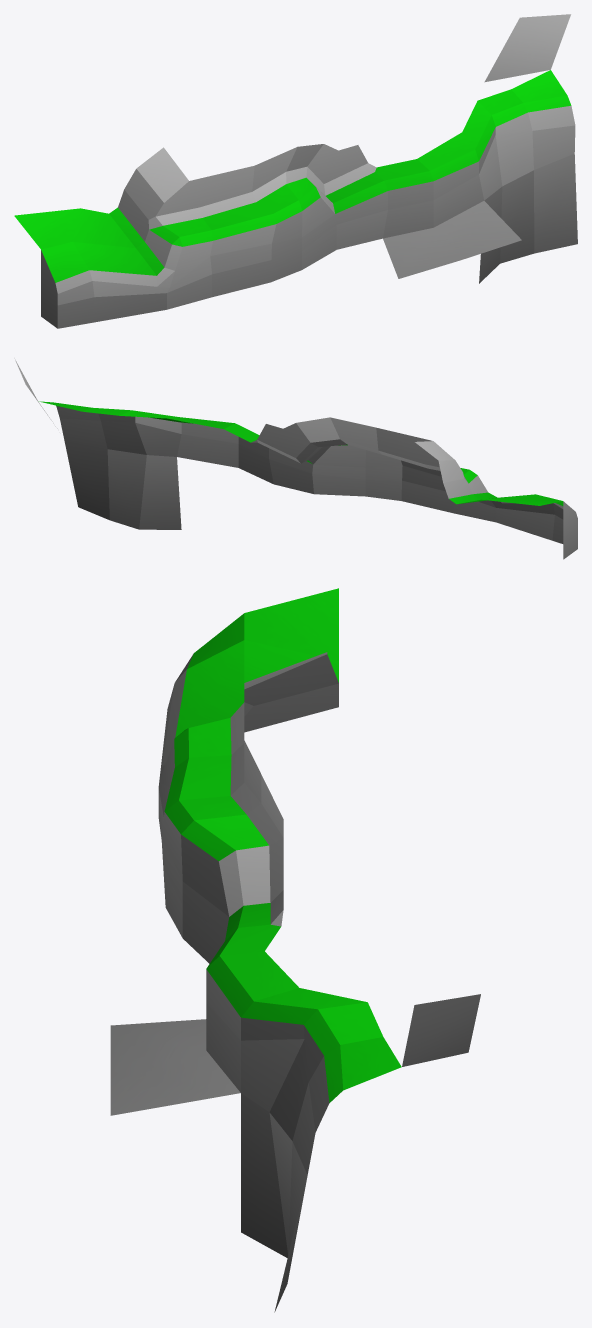
File: Forest Background 1.fbx
3 renders of one model, top to bottom at view 1: azimuth 30°, elevation 25°; view 2: azimuth 150°, elevation 25°; view 3: azimuth 270°, elevation 25°, orthographic. The views are drawn at different scales.
Visible parts, largest first — view 1: polySurface120; view 2: polySurface120; view 3: polySurface120.
Boxes of the visible parts, box(x1,y1,x2,y2) form: polySurface120: box(14, 14, 577, 328); polySurface120: box(14, 358, 577, 559); polySurface120: box(110, 588, 480, 1312).
Size of the model in its own units: 305 by 100 by 96.48.
1 material, 1 textured.
